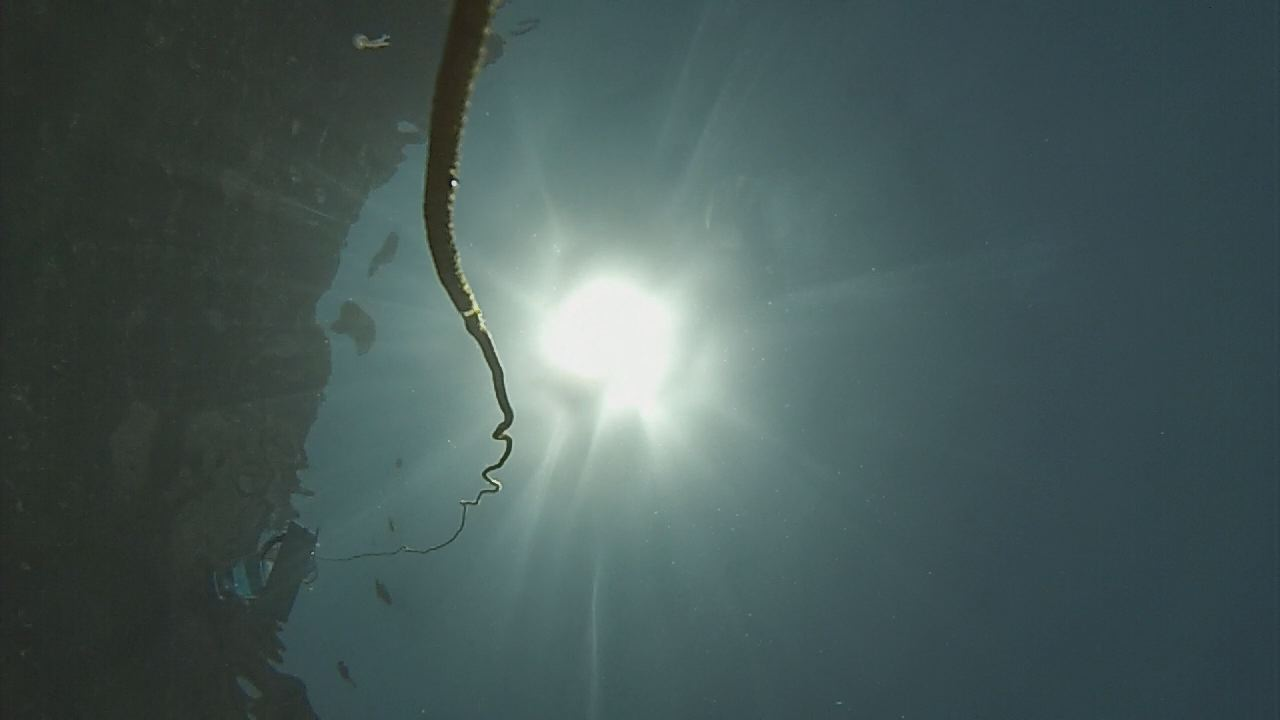pelagia: (347, 26, 396, 62)
